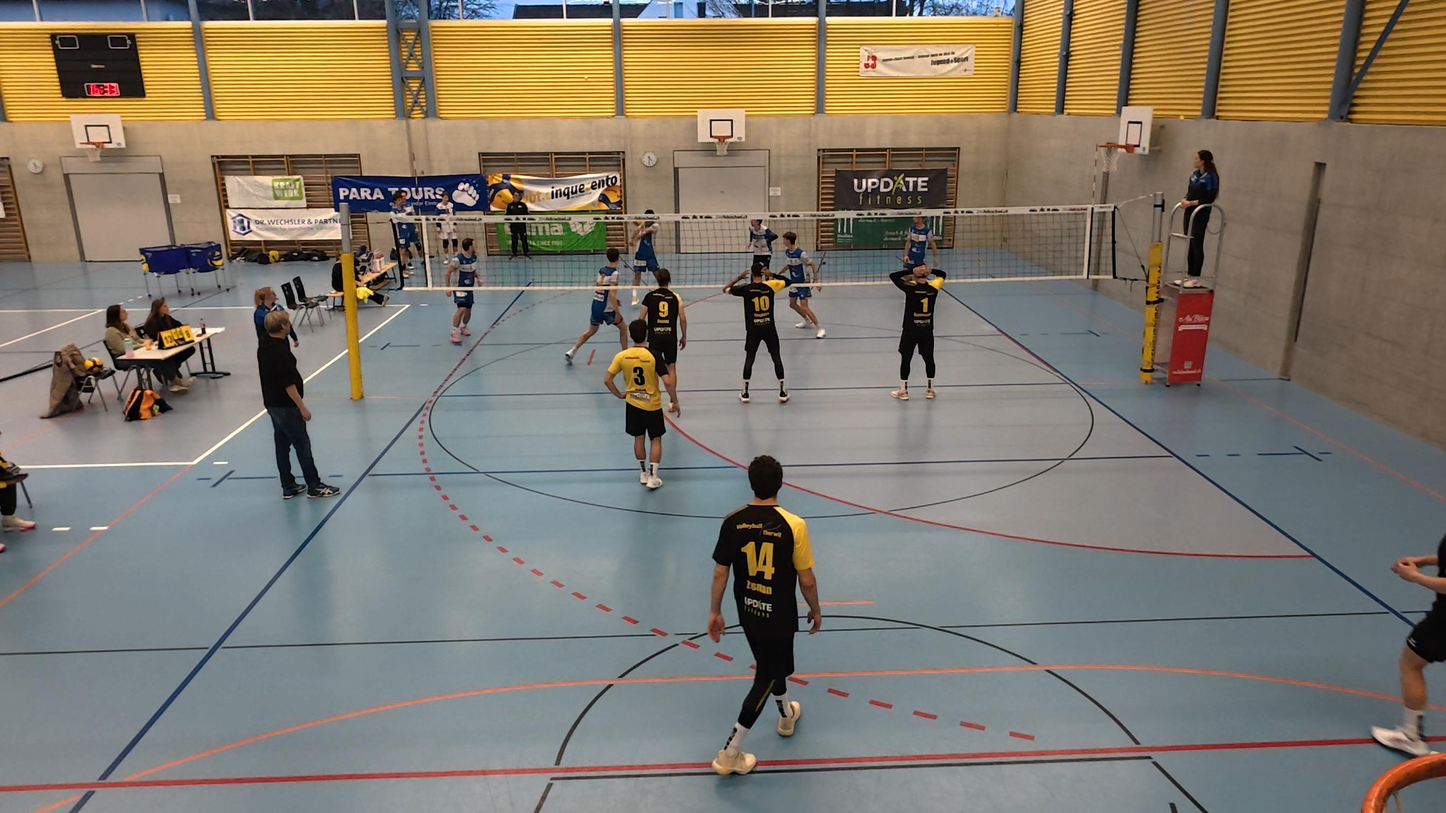Player: (706, 454, 820, 776), (1371, 537, 1446, 754), (718, 261, 799, 404), (611, 319, 677, 490), (885, 261, 946, 401), (564, 243, 629, 366), (639, 267, 686, 412), (778, 239, 824, 340), (451, 239, 481, 344), (900, 222, 936, 282), (745, 218, 776, 275)
Receive: (629, 207, 661, 305)
ball: (630, 212, 646, 231)
